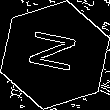N_E: (25, 30, 85, 80)
